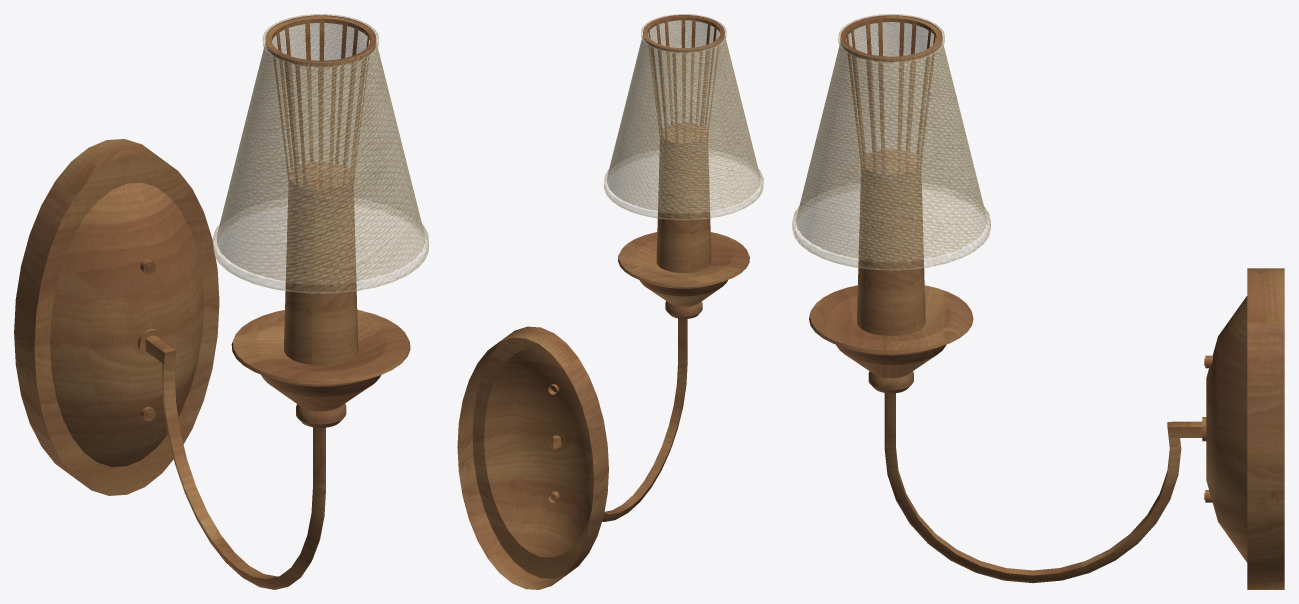
Rendered from LampaPerete.obj.
3 views of the same model, side by side, from view 1: azimuth 30°, elevation 25°; view 2: azimuth 150°, elevation 25°; view 3: azimuth 270°, elevation 25° (orthographic). The views are drawn at different scales.
Visible parts, largest first — view 1: Cylinder; view 2: Cylinder; view 3: Cylinder.
Boxes of the visible parts, box(x1,y1,x2,y2) form: Cylinder: box(14, 14, 428, 589); Cylinder: box(457, 14, 763, 589); Cylinder: box(792, 14, 1284, 589).
Size of the model in its own units: 0.2697 by 0.8219 by 0.6686.
Materials: 2 (2 with a texture image).
